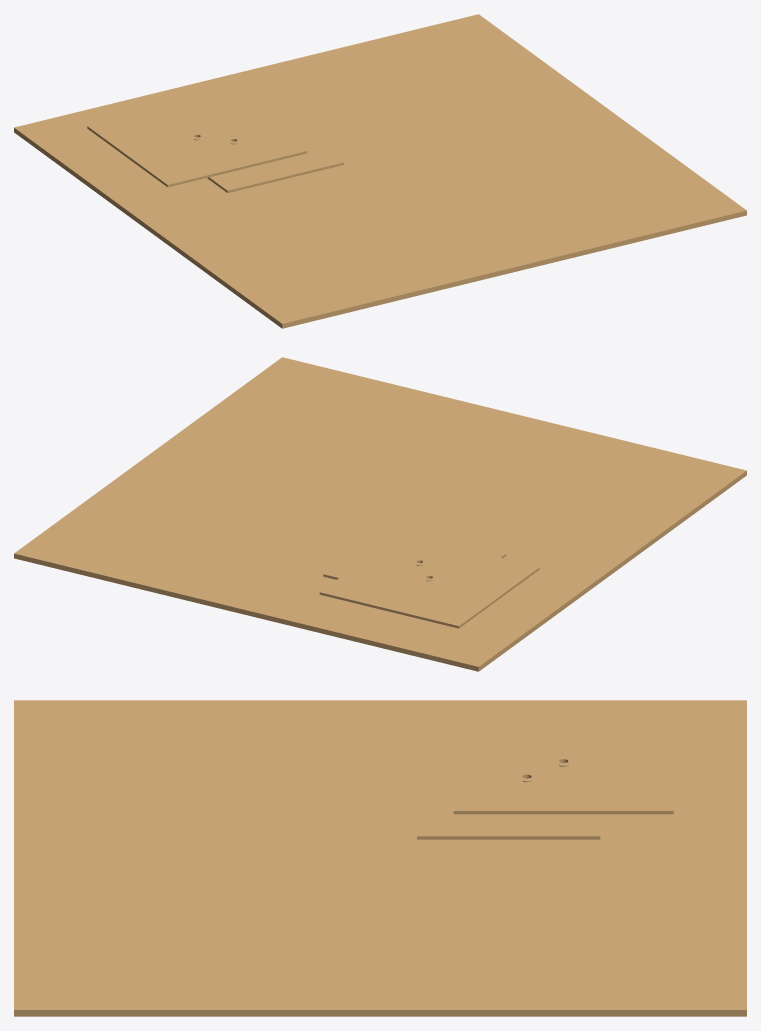
The model's file is board.glb.
The picture shows the model from 3 angles, top to bottom: view 1: azimuth 30°, elevation 25°; view 2: azimuth 150°, elevation 25°; view 3: azimuth 270°, elevation 25°; orthographic projection. The views are drawn at different scales.
Parts seen in each view (by area): view 1: Substrate_Layer_0_Z1, Substrate_Layer_1_Z0, Substrate_Layer_3_Z0, Substrate_Layer_0_Z0; view 2: Substrate_Layer_0_Z1, Substrate_Layer_1_Z0, Substrate_Layer_0_Z0, Substrate_Layer_3_Z0; view 3: Substrate_Layer_0_Z1, Substrate_Layer_1_Z0, Substrate_Layer_3_Z0, Substrate_Layer_0_Z0.
Part boxes in pixels (bbox=[...]): Substrate_Layer_0_Z1: bbox=[14, 14, 746, 326]; Substrate_Layer_1_Z0: bbox=[87, 92, 307, 187]; Substrate_Layer_3_Z0: bbox=[207, 113, 343, 192]; Substrate_Layer_0_Z0: bbox=[14, 130, 746, 328]; Substrate_Layer_0_Z1: bbox=[14, 357, 746, 669]; Substrate_Layer_1_Z0: bbox=[319, 533, 539, 628]; Substrate_Layer_0_Z0: bbox=[14, 473, 746, 671]; Substrate_Layer_3_Z0: bbox=[323, 525, 506, 579]; Substrate_Layer_0_Z1: bbox=[14, 700, 746, 1013]; Substrate_Layer_1_Z0: bbox=[453, 718, 673, 814]; Substrate_Layer_3_Z0: bbox=[417, 759, 600, 839]; Substrate_Layer_0_Z0: bbox=[14, 1013, 746, 1016].
Size of the model in its own units: 0.02 by 0.0007 by 0.02.
